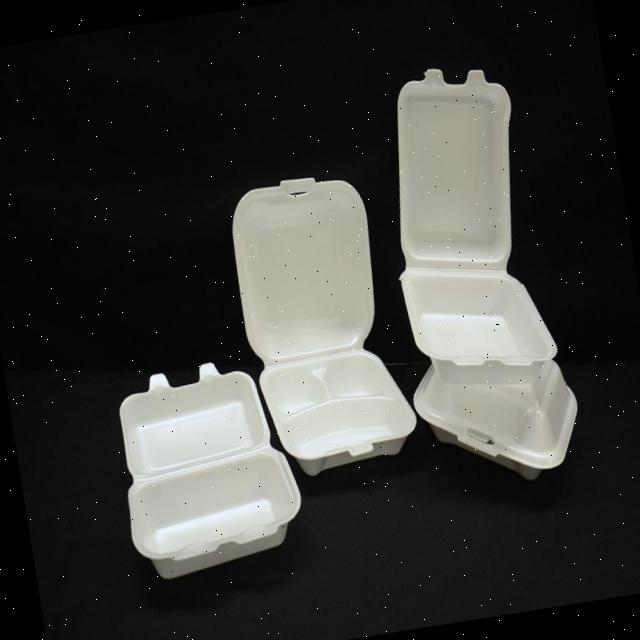styrofoam: (362, 51, 590, 498), (222, 163, 422, 483), (105, 349, 311, 585)
